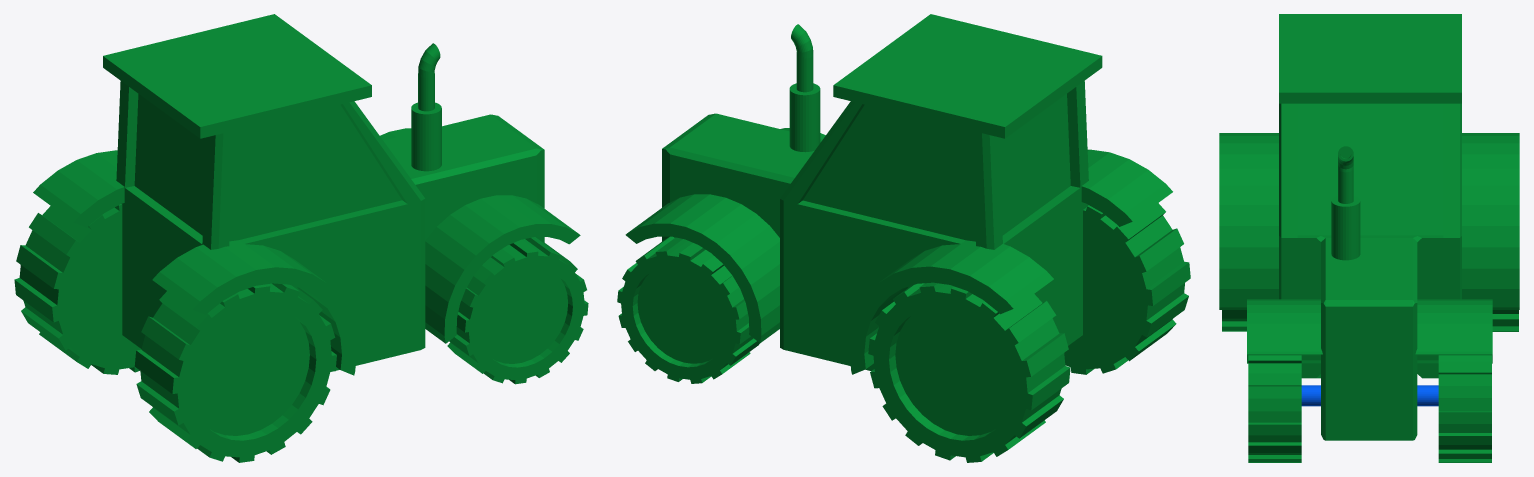
Rendered from TractorGreen.fbx.
The picture shows the model from 3 angles, left to right: view 1: azimuth 30°, elevation 25°; view 2: azimuth 150°, elevation 25°; view 3: azimuth 270°, elevation 25°; orthographic projection. The views are drawn at different scales.
Visible parts, largest first — view 1: Tractor.001, TractorRearWheelR.001, TractorWheelRearL.001, TractorFrontWheelR.001, TractorMudGuardFrontR.001, TractorMudGardRR.001, RearWheel.001, TractorExhaust.001; view 2: Tractor.001, TractorWheelRearL.001, TractorRearWheelR.001, TractorWheelFrontL.001, TractorMudGardFrontL.001, RearWheel.001, TractorMudGardRR.001, TractorExhaust.001; view 3: Tractor.001, TractorMudGardRR.001, RearWheel.001, TractorFrontWheelR.001, TractorWheelFrontL.001, TractorMudGardFrontL.001, TractorMudGuardFrontR.001, TractorExhaust.001, TractorAxel.001, TractorWheelRearL.001, TractorRearWheelR.001.
Part boxes in pixels (left/top/right/bottom): Tractor.001: left=103, top=14, right=544, bottom=371; TractorRearWheelR.001: left=134, top=283, right=336, bottom=462; TractorWheelRearL.001: left=14, top=204, right=141, bottom=374; TractorFrontWheelR.001: left=447, top=237, right=588, bottom=384; TractorMudGuardFrontR.001: left=425, top=195, right=580, bottom=343; TractorMudGardRR.001: left=152, top=240, right=356, bottom=375; RearWheel.001: left=33, top=150, right=124, bottom=227; TractorExhaust.001: left=411, top=43, right=441, bottom=171; Tractor.001: left=662, top=14, right=1102, bottom=370; TractorWheelRearL.001: left=868, top=282, right=1070, bottom=462; TractorRearWheelR.001: left=1064, top=203, right=1190, bottom=374; TractorWheelFrontL.001: left=617, top=236, right=759, bottom=383; TractorMudGardFrontL.001: left=625, top=194, right=779, bottom=343; RearWheel.001: left=849, top=240, right=1053, bottom=374; TractorMudGardRR.001: left=1081, top=149, right=1172, bottom=226; TractorExhaust.001: left=789, top=24, right=820, bottom=152; Tractor.001: left=1279, top=14, right=1461, bottom=440; TractorMudGardRR.001: left=1219, top=133, right=1278, bottom=309; RearWheel.001: left=1462, top=133, right=1519, bottom=309; TractorFrontWheelR.001: left=1248, top=355, right=1301, bottom=462; TractorWheelFrontL.001: left=1438, top=355, right=1491, bottom=462; TractorMudGardFrontL.001: left=1415, top=299, right=1492, bottom=363; TractorMudGuardFrontR.001: left=1247, top=299, right=1322, bottom=363; TractorExhaust.001: left=1331, top=146, right=1360, bottom=260; TractorAxel.001: left=1301, top=385, right=1438, bottom=406; TractorWheelRearL.001: left=1492, top=310, right=1518, bottom=331; TractorRearWheelR.001: left=1222, top=310, right=1246, bottom=331.
Size of the model in its own units: 604 by 428 by 388.
